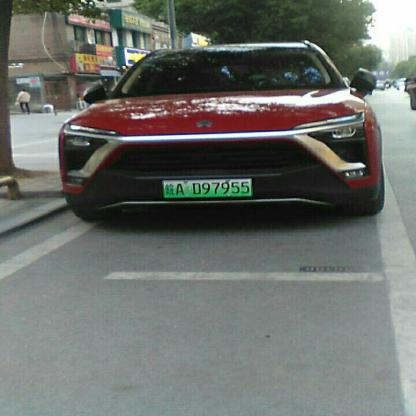lp: (161, 179, 251, 199)
